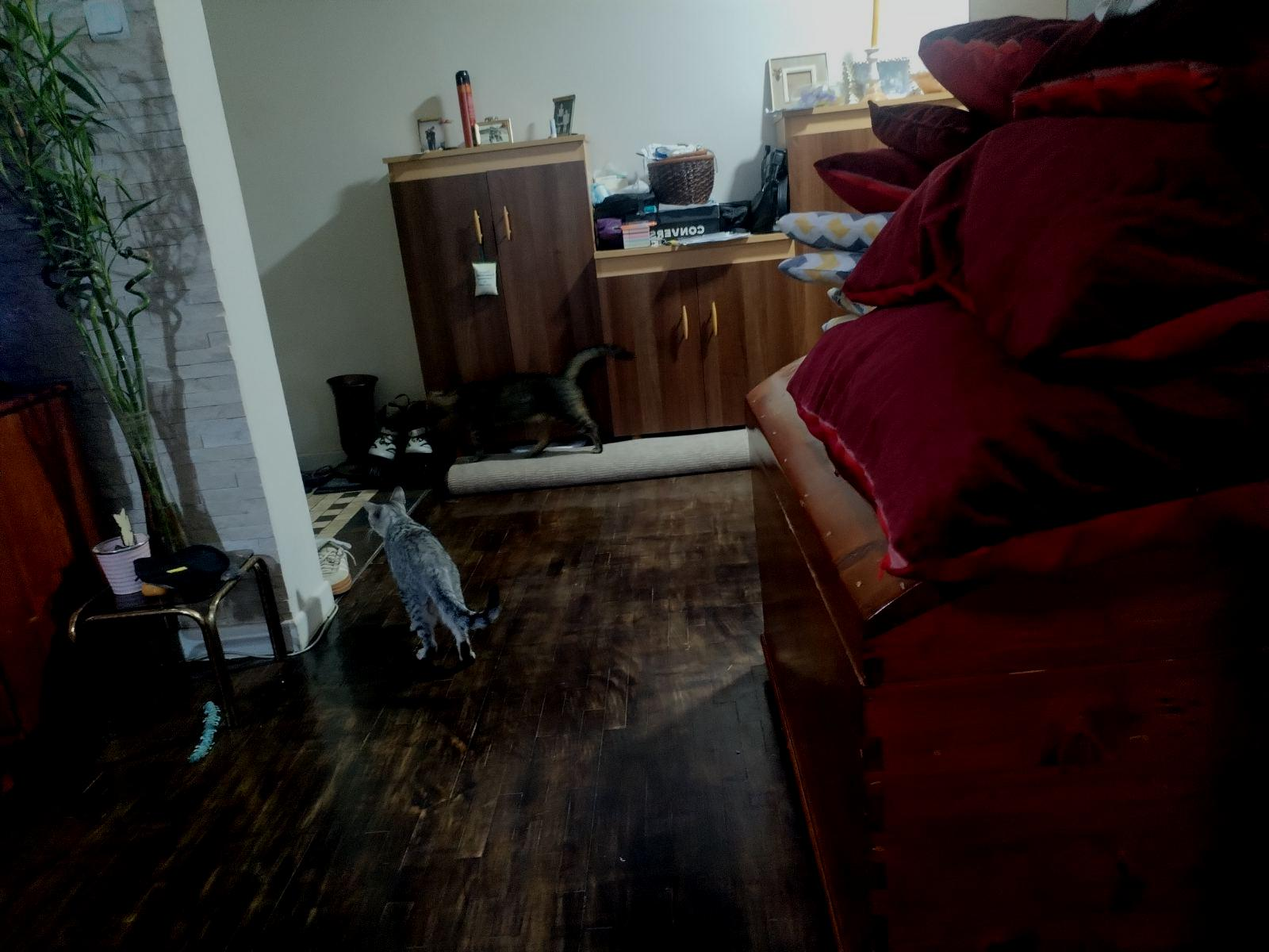macka: (360, 486, 502, 666), (422, 345, 636, 462)
